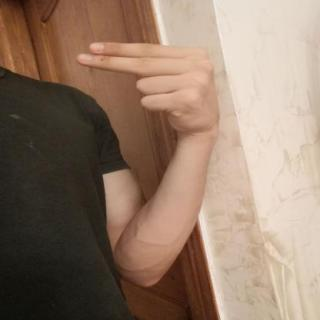AYN: (62, 32, 232, 142)
